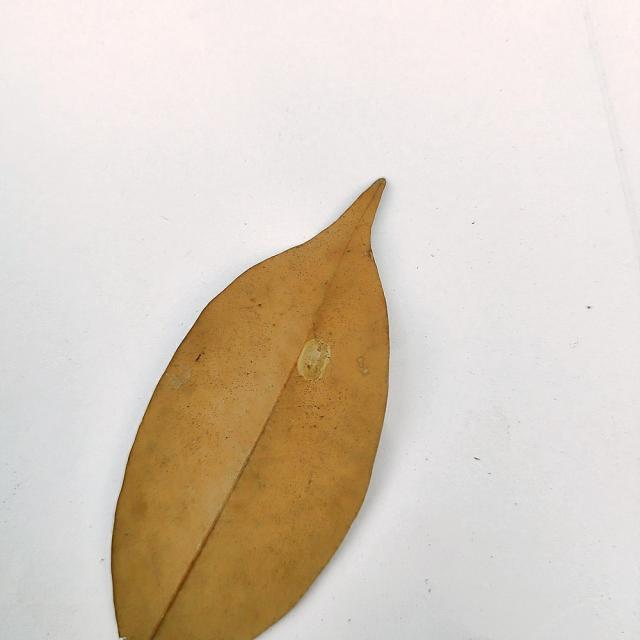Dry_Leaf-Lychee: (111, 179, 390, 639)
